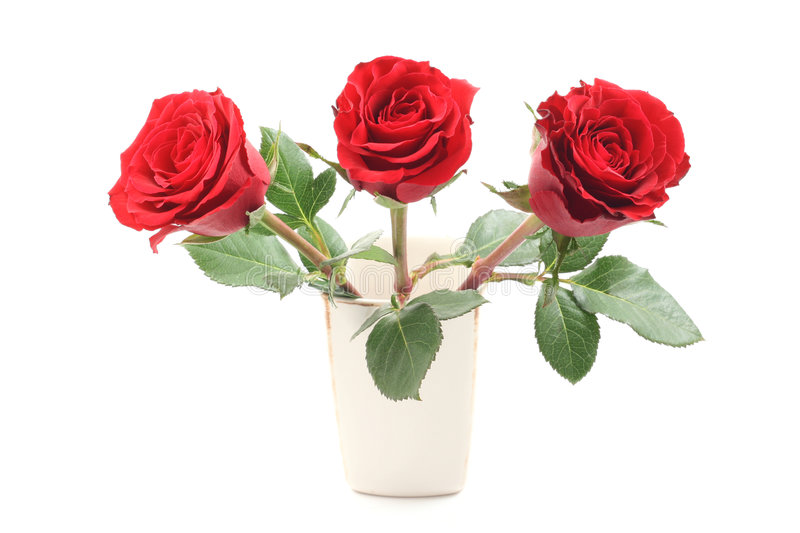RedRose: (53, 52, 275, 278), (517, 63, 708, 278), (318, 32, 490, 241)
